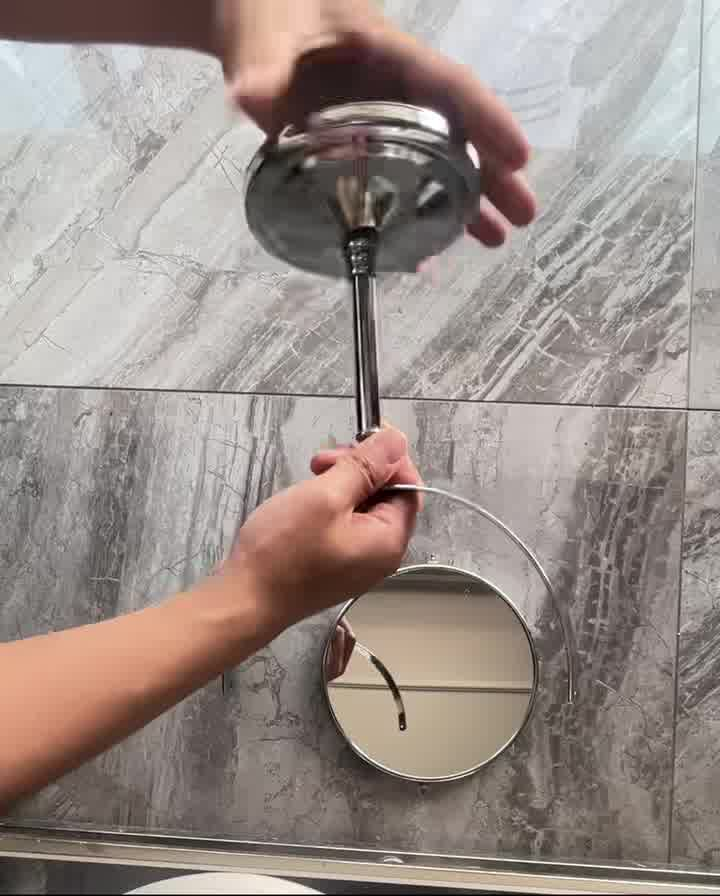base: (202, 81, 501, 268)
frame: (180, 262, 606, 672)
mirror: (311, 566, 565, 789)
